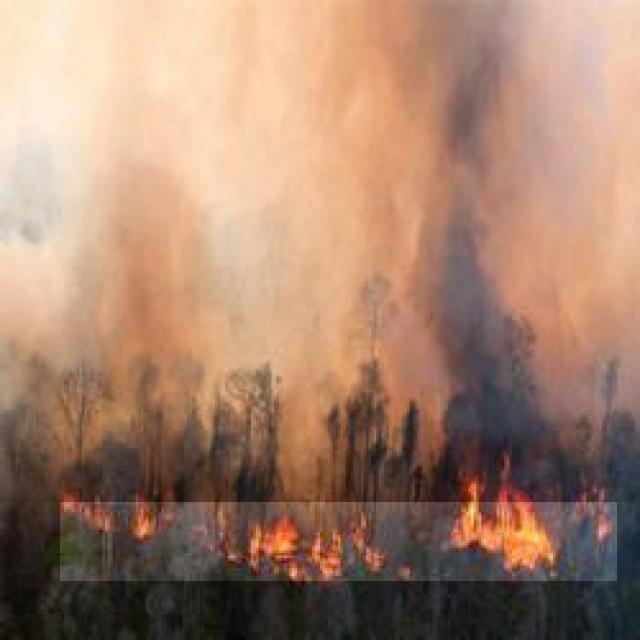Fire: (60, 475, 617, 581)
Smoke: (0, 0, 640, 502)
